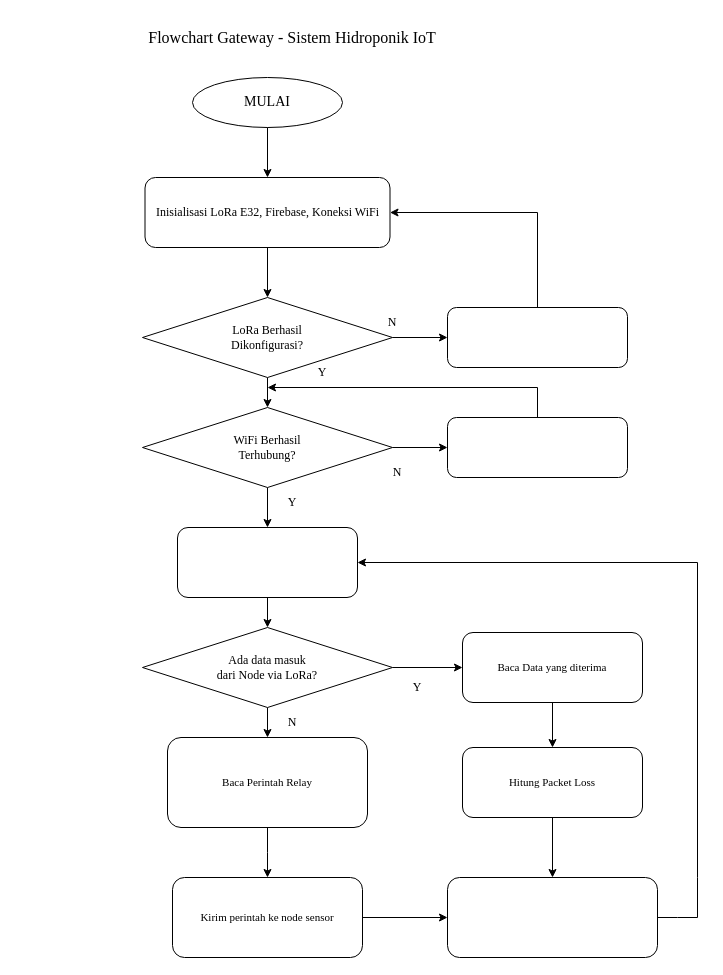
This 723x975 diagram has some shape labels left out. The shapes that lost their labels are listed below. From the top down, each one's centre as x and y in pixels, then its label:
[537,337]: Tampilkan Error
[537,447]: Reconnect WiFi
[267,562]: Periksa Data dari firebase
[552,917]: Kirim Data ke Firebase
